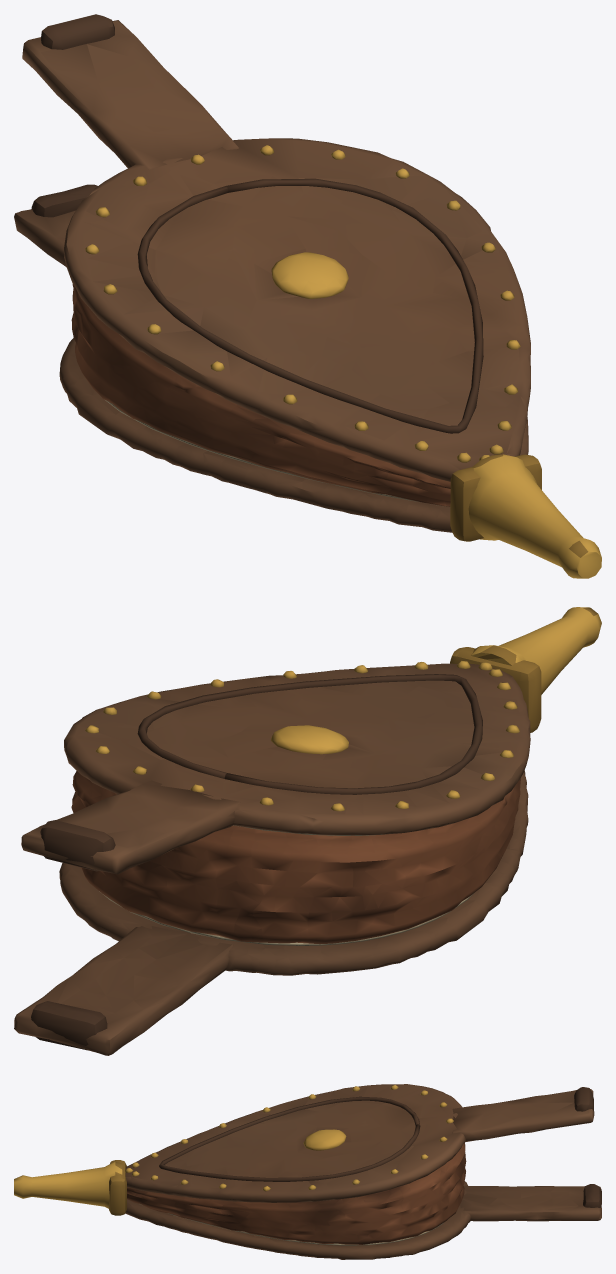
The model's file is ember_bellows_lod1.glb.
The picture shows the model from 3 angles, top to bottom: view 1: azimuth 30°, elevation 25°; view 2: azimuth 150°, elevation 25°; view 3: azimuth 270°, elevation 25°; orthographic projection. The views are drawn at different scales.
Visible parts, largest first — view 1: bellows_top.001, ember_bellows.001; view 2: ember_bellows.001, bellows_top.001; view 3: bellows_top.001, ember_bellows.001.
Boxes of the visible parts, left/top/right/bottom form: bellows_top.001: left=22, top=14, right=530, bottom=481; ember_bellows.001: left=14, top=184, right=601, bottom=578; ember_bellows.001: left=14, top=607, right=601, bottom=1055; bellows_top.001: left=21, top=660, right=530, bottom=874; bellows_top.001: left=125, top=1084, right=594, bottom=1202; ember_bellows.001: left=14, top=1143, right=601, bottom=1259.
Size of the model in its own units: 27.24 by 14.3 by 65.06.
